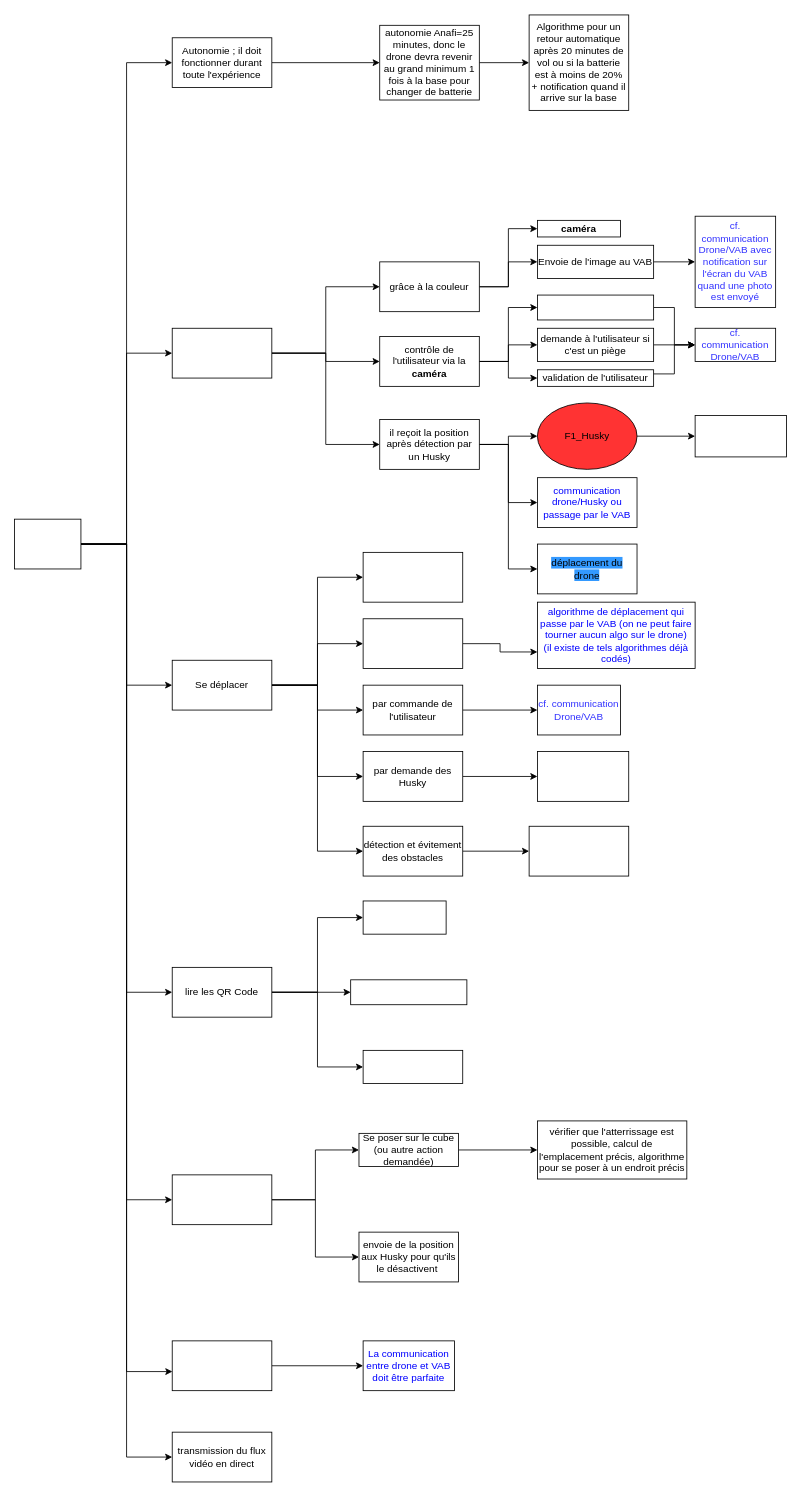
This 801x1496 diagram has some shape labels left out. Here are the shapes that lost their labels. From the top down, the centre of each, then its label:
the point at 595,307: Envoie des images au VAB
the point at 221,352: Détecter les pièges
the point at 740,436: système de coordonnées pour se repérer
the point at 47,543: Drone Anafi
the point at 412,577: altitude fixé (un drone sera plus haut que l'autre)
the point at 412,643: par défaut ; stratégie pour couvrir toute la zone
the point at 583,776: cf communication Husky/drones
the point at 578,850: algorithme de contournement
the point at 404,917: "fouiller le cube" pour trouver le QRC
the point at 408,992: prise en photo du QRC
the point at 412,1067: envoie du QRC au VAB (le drone ne peut lire le QCR)
the point at 221,1199: Désamorcer les pièges
the point at 221,1365: aucun calcul ou traitement sur le drone
